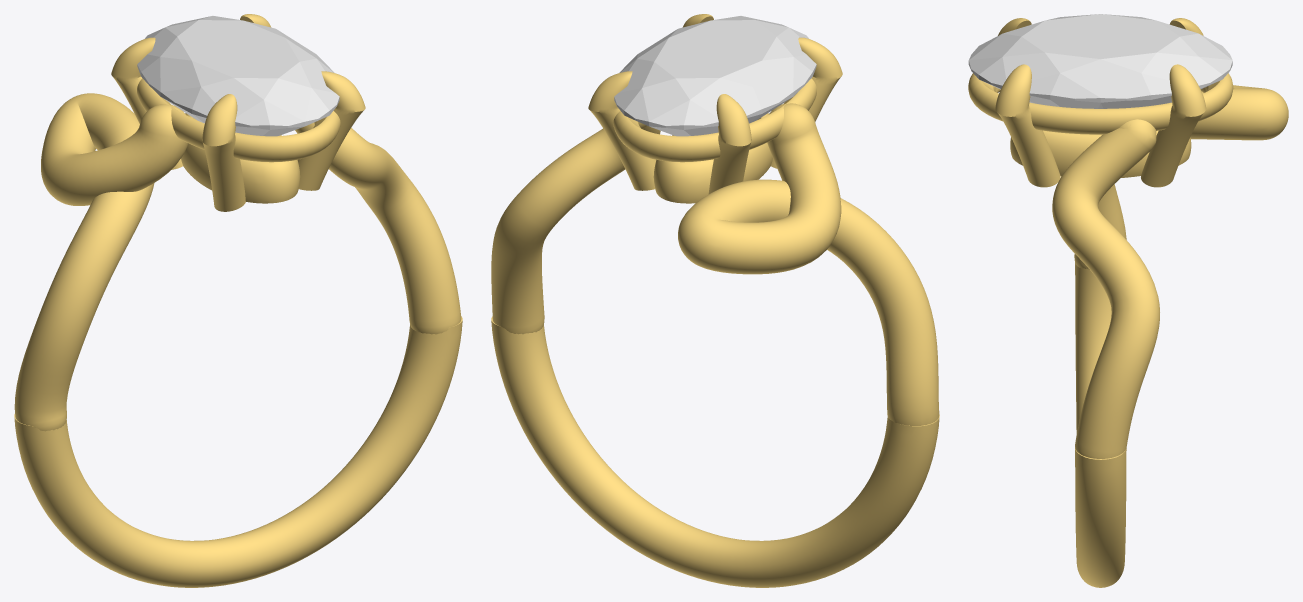
Rendered from JonathanV1engYG_blender.glb.
3 views of the same model, side by side, from view 1: azimuth 30°, elevation 25°; view 2: azimuth 150°, elevation 25°; view 3: azimuth 270°, elevation 25° (orthographic).
Parts seen in each view (by area): view 1: V1 Jonathan YG for 3d model, V1 Jonathan dia for 3d model; view 2: V1 Jonathan YG for 3d model, V1 Jonathan dia for 3d model; view 3: V1 Jonathan YG for 3d model, V1 Jonathan dia for 3d model.
Part boxes in pixels (left/top/right/bottom): V1 Jonathan YG for 3d model: left=14, top=14, right=462, bottom=587; V1 Jonathan dia for 3d model: left=137, top=16, right=339, bottom=136; V1 Jonathan YG for 3d model: left=491, top=14, right=939, bottom=587; V1 Jonathan dia for 3d model: left=614, top=16, right=816, bottom=136; V1 Jonathan YG for 3d model: left=968, top=18, right=1288, bottom=587; V1 Jonathan dia for 3d model: left=968, top=14, right=1232, bottom=108.
Size of the model in its own units: 19.64 by 22.57 by 12.44.
